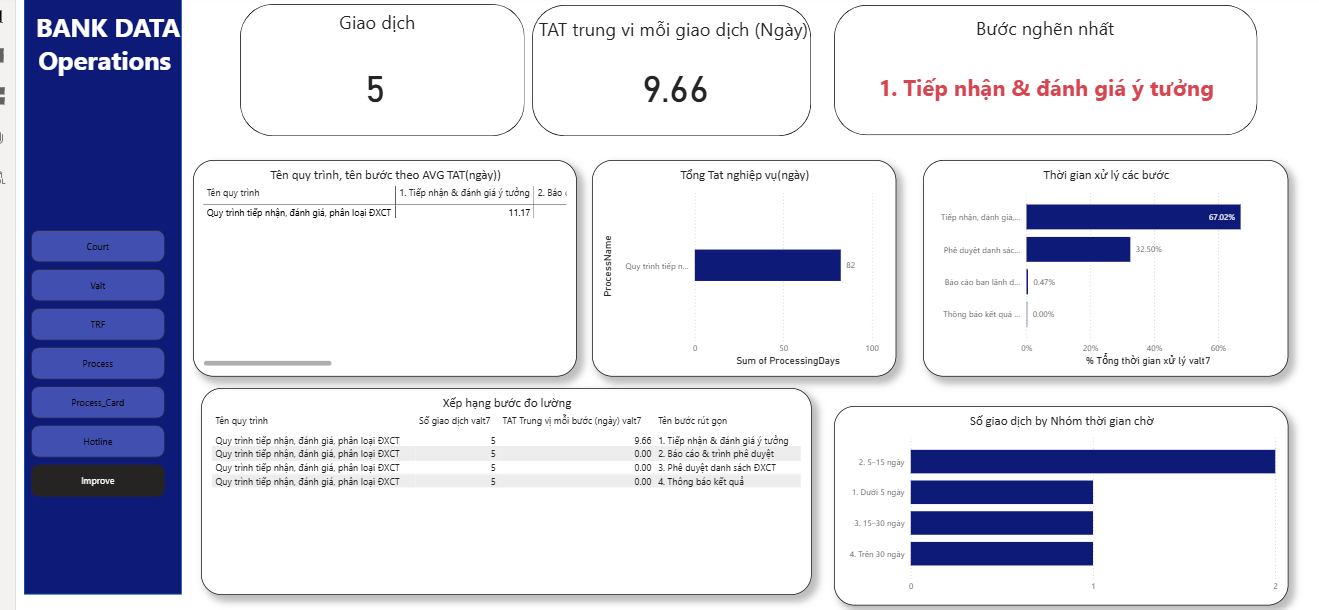

The page's visual inventory and layout, read from the dashboard file:
{"tool":"powerbi","page":{"name":"Improve","canvas":[1920,900],"ordinal":6},"visuals":[{"type":"shape","box":[11,0,230.4,873.1],"z":0},{"type":"textbox","box":[0,15,258.3,188.6],"z":1000},{"type":"shape","box":[326.6,12.3,415.4,192.7],"z":2000},{"type":"textbox","box":[369,15,330.7,54.7],"z":3000},{"type":"cardVisual","fields":{"Data":["Measure_Impr.Số giao dịch valt7"]},"box":[490.6,80.6,173.6,94.3],"z":4000},{"type":"cardVisual","fields":{"Data":["Measure_Impr.Bước nghẽn nhất valt7"]},"box":[1242.2,65.6,565.8,125.7],"z":5000},{"type":"shape","title":"Tên quy trình, tên bước theo AVG TAT(ngày)","box":[1193,13.7,617.7,190],"z":6000},{"type":"textbox","box":[1332.4,23.2,338.9,57.4],"z":7000},{"type":"shape","box":[753,13.7,407.2,191.3],"z":8000},{"type":"textbox","box":[742,24.6,433.2,56],"z":9000},{"type":"cardVisual","fields":{"Data":["Measure_Impr.TAT Trung vị mỗi giao dịch (ngày) valt7"]},"box":[895.1,80.6,181.8,94.3],"z":10000},{"type":"clusteredBarChart","title":"Thời gian xử lý các bước","fields":{"Category":["Dim_UNIT_07_IMPROV.StepName"],"Y":["Measure_Impr.% Tổng thời gian xử lý valt7"]},"box":[1322.8,239.1,533,315.7],"z":11000},{"type":"clusteredBarChart","title":"Số giao dịch  by Nhóm thời gian chờ ","fields":{"Y":["Measure_Impr.Số giao dịch valt7"],"Category":["Fact_UNIT_07_IMPROV.Nhóm thời gian chờ valt7"]},"box":[1193,598.5,662.8,291.1],"z":12000},{"type":"tableEx","title":"Xếp hạng bước đo lường","fields":{"Values":["Dim_UNIT_07_IMPROV.ProcessName","Measure_Impr.Số giao dịch valt7","Measure_Impr.TAT Trung vị mỗi bước (ngày) valt7","Dim_UNIT_07_IMPROV.Tên bước rút gọn"]},"box":[269.2,571.2,891,302],"z":13000},{"type":"pivotTable","title":"Tên quy trình, tên bước theo AVG TAT(ngày))","fields":{"Rows":["Dim_UNIT_07_IMPROV.ProcessName"],"Columns":["Dim_UNIT_07_IMPROV.Tên bước rút gọn"],"Values":["Measure TAT (2).AVG TAT Impro (ngày)"]},"box":[258.3,239.1,560.3,315.7],"z":15000},{"type":"barChart","title":"Tổng Tat nghiệp vụ(ngày)","fields":{"Category":["Dim_UNIT_07_IMPROV.ProcessName"],"Y":["Sum(Fact_UNIT_07_IMPROV.ProcessingDays)"]},"box":[840.4,239.1,444.1,315.7],"z":16000},{"type":"pageNavigator","box":[22.1,340.7,195.9,394.5],"z":17000}]}

Visuals, with their boxes on the page's 1920x900 design canvas (x1, y1, x2, y2). These are canvas units, not pixel positions in the 1319x610 screenshot, which may show the page scaled, cropped or inside an application window:
shape: [left=11, top=0, right=241, bottom=873]
textbox: [left=0, top=15, right=258, bottom=204]
shape: [left=327, top=12, right=742, bottom=205]
textbox: [left=369, top=15, right=700, bottom=70]
cardVisual - Measure_Impr.Số giao dịch valt7: [left=491, top=81, right=664, bottom=175]
cardVisual - Measure_Impr.Bước nghẽn nhất valt7: [left=1242, top=66, right=1808, bottom=191]
"Tên quy trình, tên bước theo AVG TAT(ngày)" shape: [left=1193, top=14, right=1811, bottom=204]
textbox: [left=1332, top=23, right=1671, bottom=81]
shape: [left=753, top=14, right=1160, bottom=205]
textbox: [left=742, top=25, right=1175, bottom=81]
cardVisual - Measure_Impr.TAT Trung vị mỗi giao dịch (ngày) valt7: [left=895, top=81, right=1077, bottom=175]
"Thời gian xử lý các bước" clusteredBarChart: [left=1323, top=239, right=1856, bottom=555]
"Số giao dịch  by Nhóm thời gian chờ " clusteredBarChart: [left=1193, top=598, right=1856, bottom=890]
"Xếp hạng bước đo lường" tableEx: [left=269, top=571, right=1160, bottom=873]
"Tên quy trình, tên bước theo AVG TAT(ngày))" pivotTable: [left=258, top=239, right=819, bottom=555]
"Tổng Tat nghiệp vụ(ngày)" barChart: [left=840, top=239, right=1284, bottom=555]
pageNavigator: [left=22, top=341, right=218, bottom=735]
